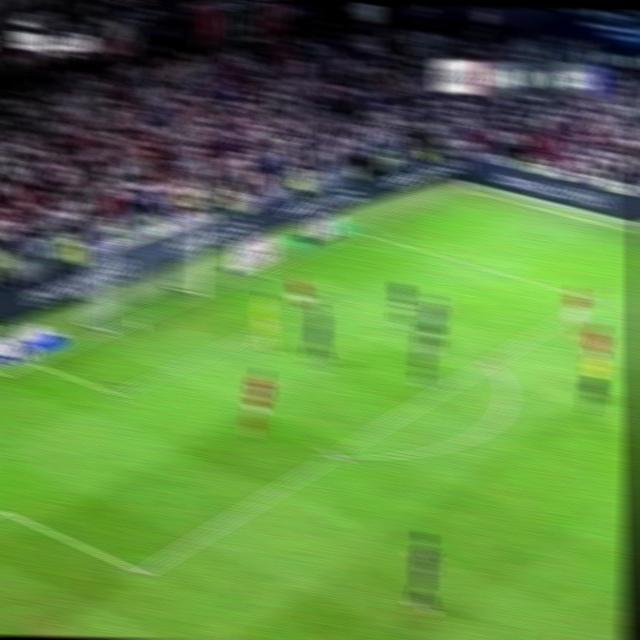bigarea_bottom_inner: (125, 553, 159, 587)
bigarea_top_inner: (584, 285, 607, 309)
bigarea_top_outter: (348, 221, 372, 240)
bottom_arc_area_intersection: (320, 440, 349, 469)
corner: (450, 180, 477, 197)
smallarea_bottom_inner: (101, 377, 131, 407)
smallarea_bottom_outter: (19, 351, 44, 371)
smallarea_top_inner: (319, 285, 344, 308)
smallarea_top_outter: (241, 260, 272, 283)
top_arc_area_intersection: (477, 349, 504, 372)
